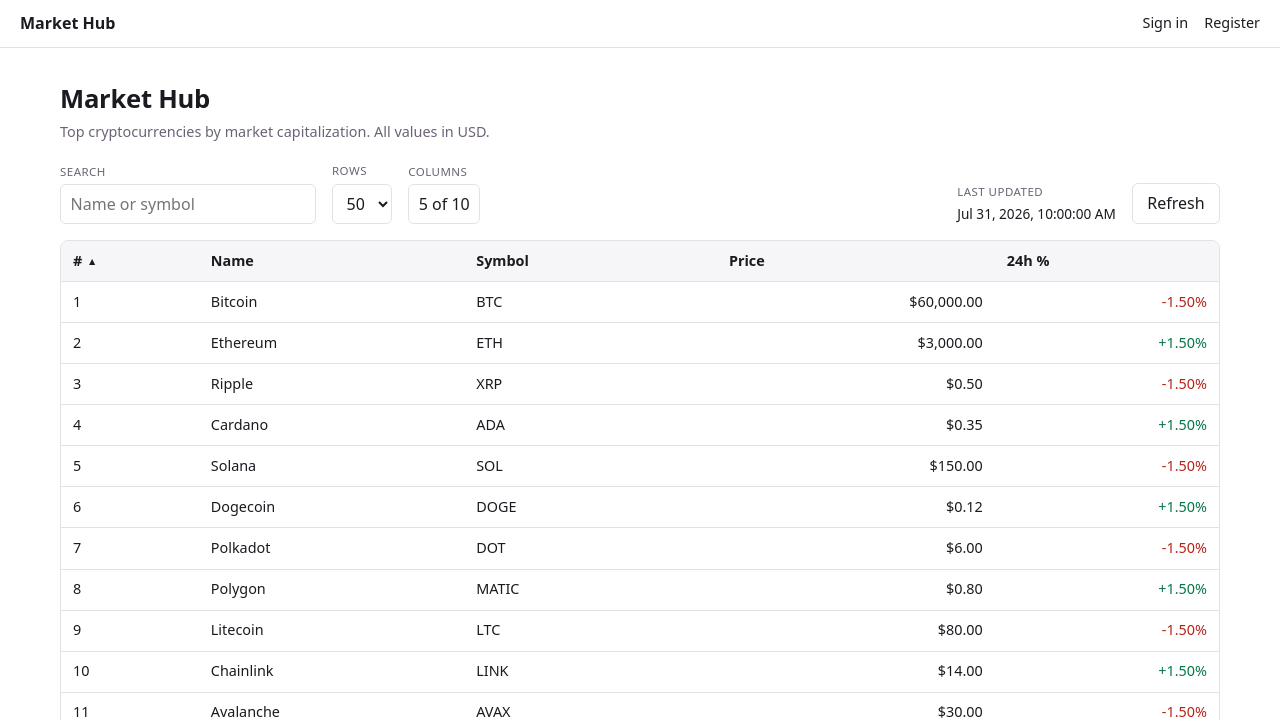
Scenario: Public Market Dashboard › search › renders "No results found" for a term that matches nothing
Step 1. Type "zzzznotacoin" into the search field labelled "Search" → (188, 204), box [60,184,316,224]
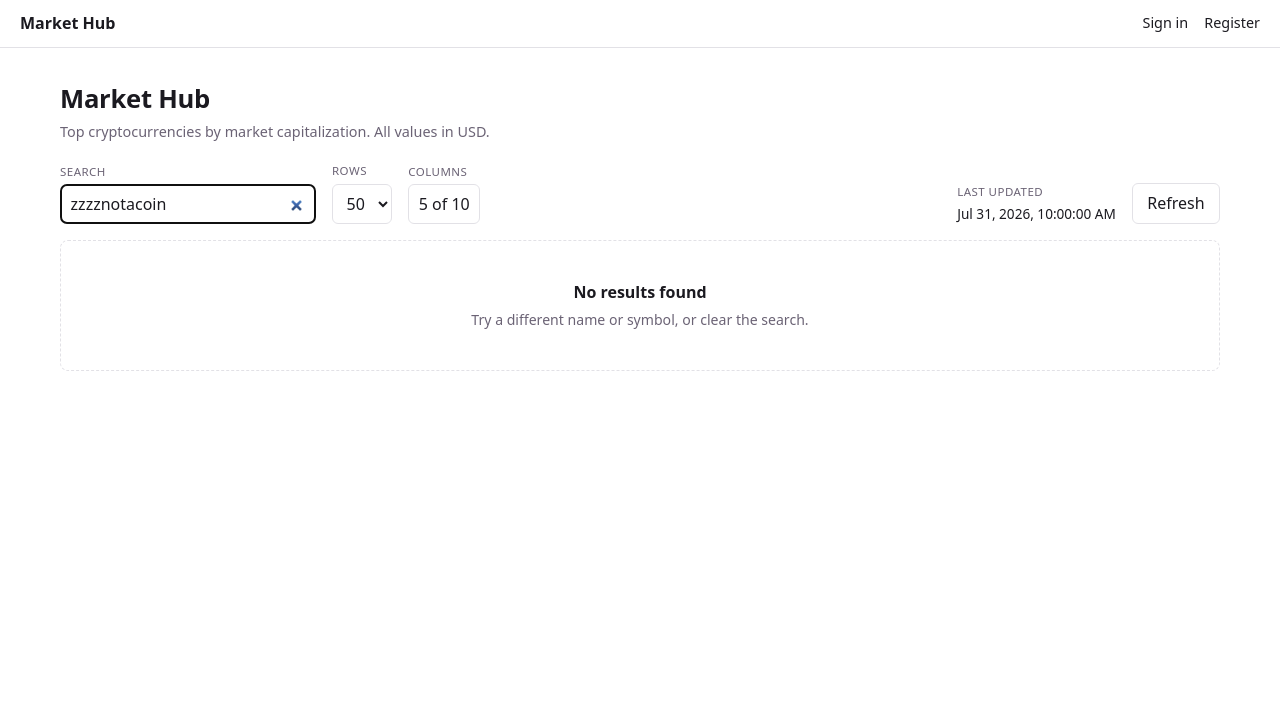
Check: the text "No results found" is shown, box [573,281,706,303]
